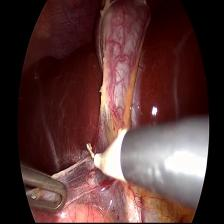Grasper: (19, 162, 70, 218)
Hook: (84, 123, 131, 190)
